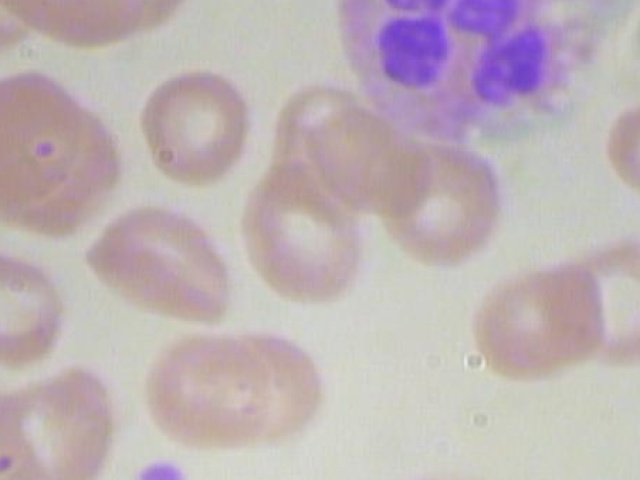Platelets: (121, 452, 189, 480)
RBC: (77, 194, 239, 332), (463, 254, 612, 396), (228, 160, 374, 302), (363, 130, 509, 272), (138, 314, 270, 457), (133, 66, 255, 192), (0, 357, 121, 480), (0, 64, 91, 218), (0, 241, 67, 371), (0, 0, 157, 53), (607, 87, 640, 213), (346, 465, 520, 480), (633, 212, 640, 314)
WBC: (331, 0, 640, 147)
